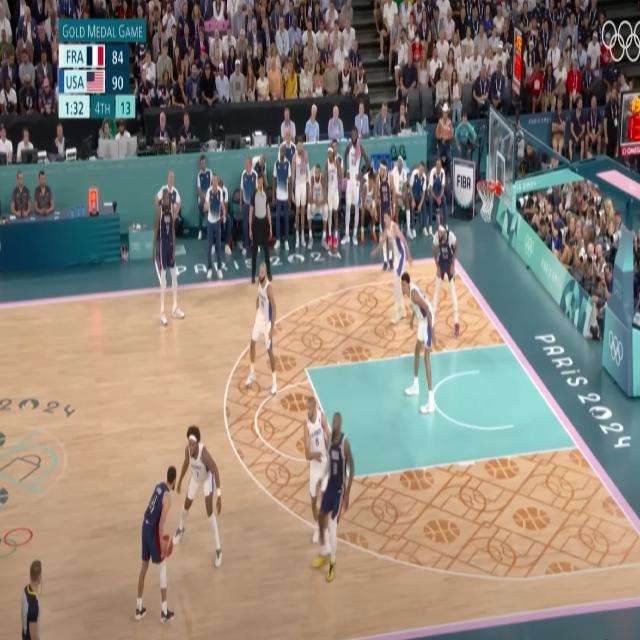basketball: (160, 534, 172, 557)
hoop: (476, 180, 498, 223)
